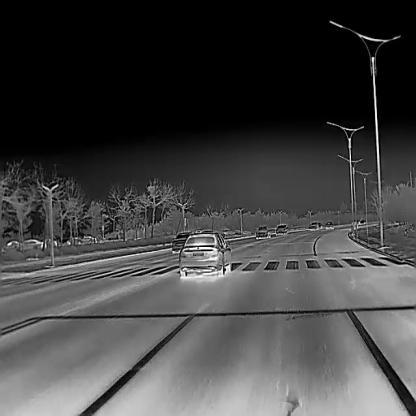car: (179, 232, 231, 276), (171, 231, 191, 252), (20, 238, 47, 251), (80, 235, 97, 244), (255, 226, 268, 236), (276, 224, 288, 234), (267, 227, 276, 235), (326, 220, 334, 229), (310, 221, 317, 229), (317, 221, 322, 228)
